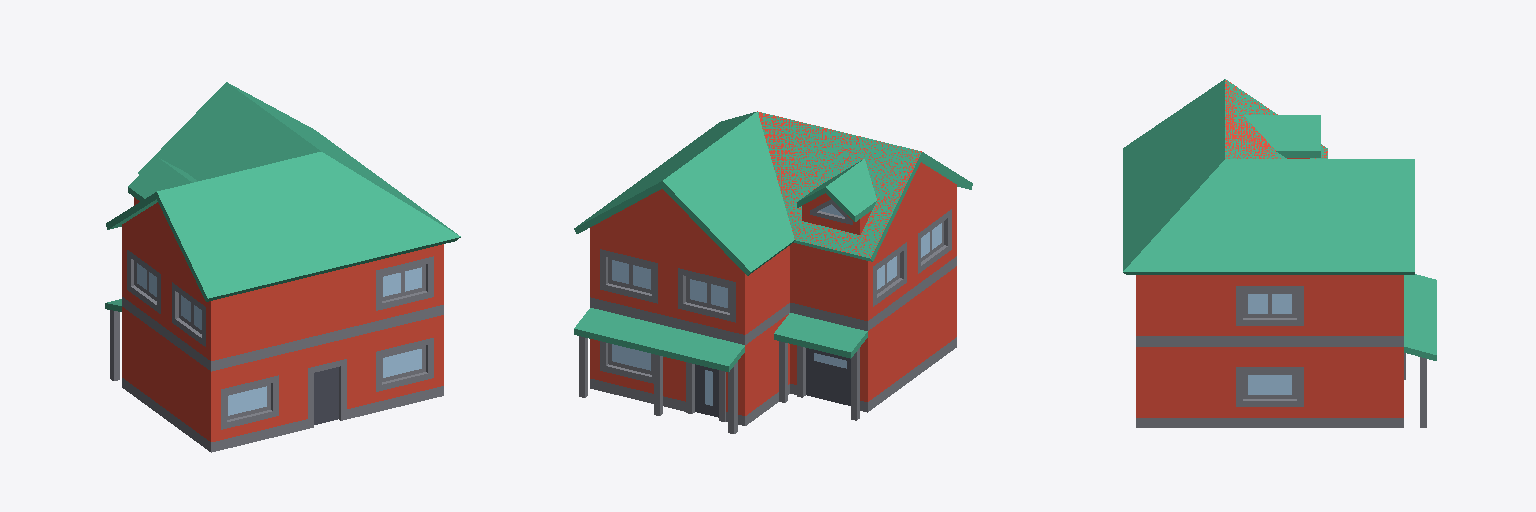
File: house_type02.obj
3 renders of one model, left to right at view 1: azimuth 30°, elevation 25°; view 2: azimuth 150°, elevation 25°; view 3: azimuth 270°, elevation 25°, orthographic.
Visible parts, largest first — view 1: house_type02; view 2: house_type02; view 3: house_type02.
Boxes of the visible parts, x1=… form: house_type02: x1=105, y1=82, x2=460, y2=452; house_type02: x1=574, y1=111, x2=972, y2=433; house_type02: x1=1123, y1=79, x2=1436, y2=427.
Bounding box in the file's own units: 1.31 × 1.14 × 1.41.